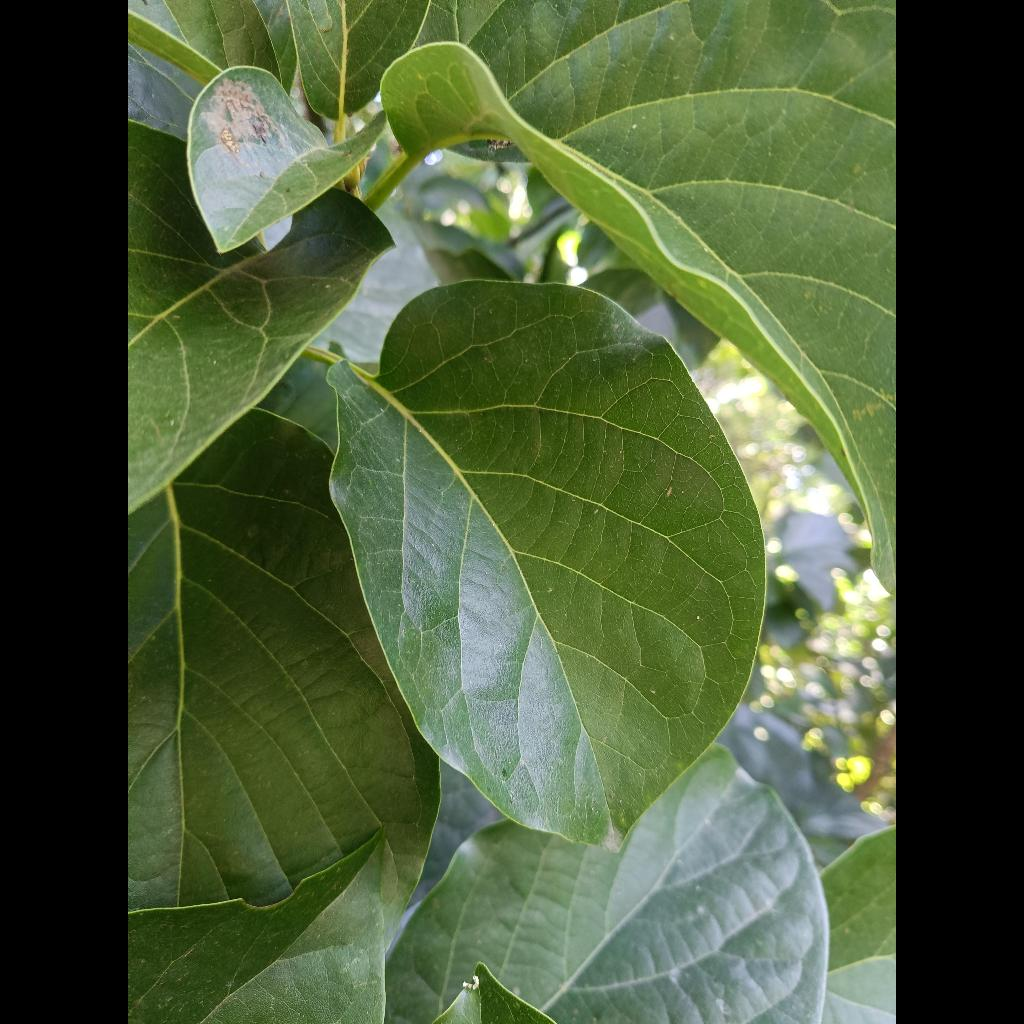hoja_sana: (328, 281, 764, 848)
